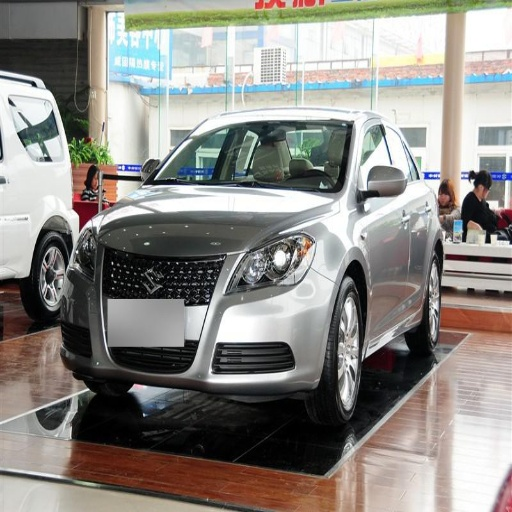front_bumper: (62, 237, 336, 402)
front_glass: (147, 120, 352, 192)
front_left_door: (356, 117, 408, 336)
